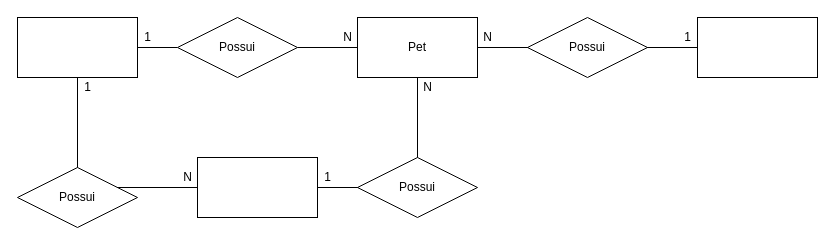
This 835x245 diagram has some shape labels left out. Here are the shapes that lost their labels. From the top down, the centre of each, then its label:
At (x=77, y=47): "Clinica".
At (x=757, y=47): "Donos".
At (x=257, y=187): "Veterinario".
